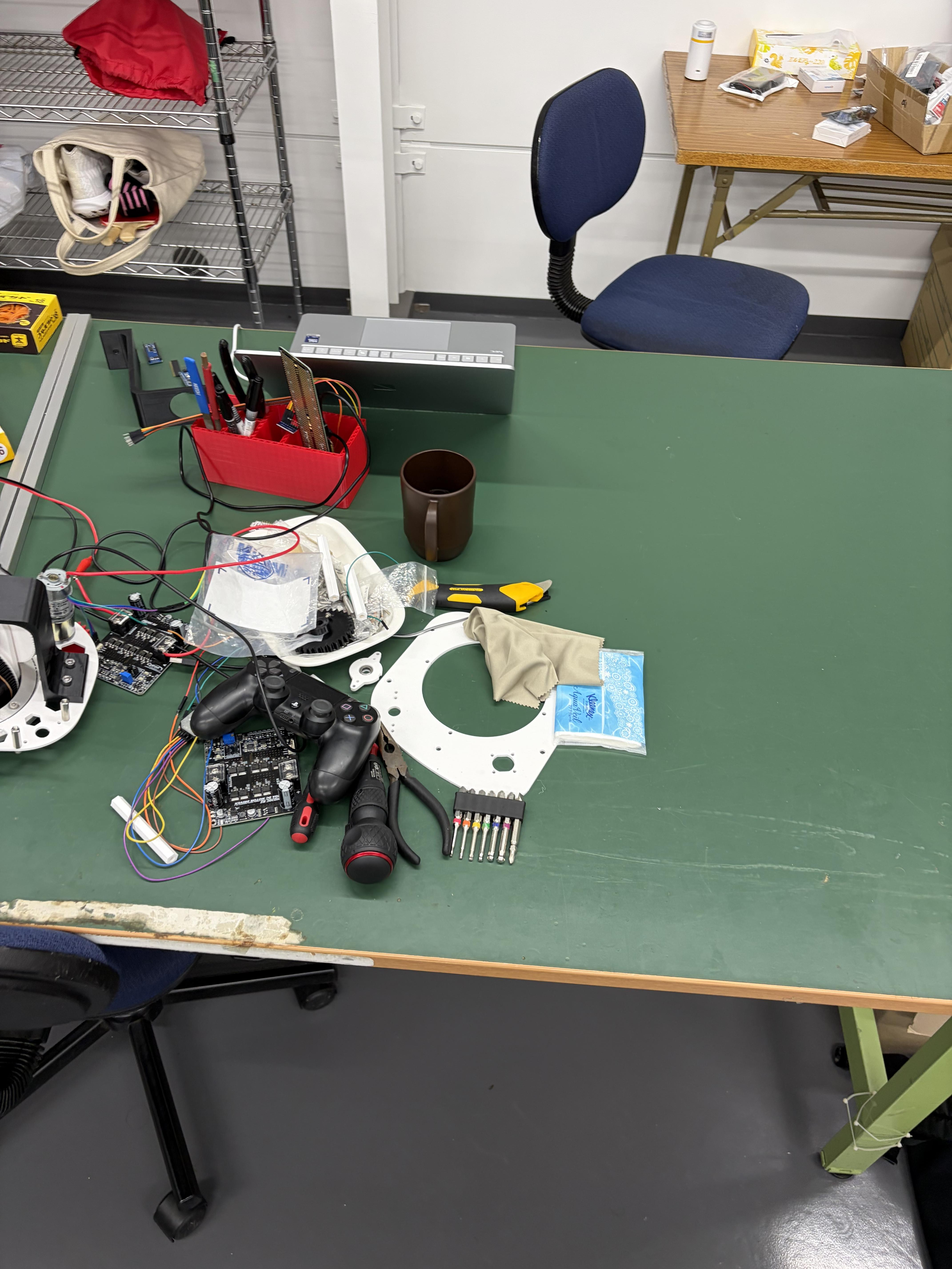mug-real100-3d100: (400, 450, 476, 562)
